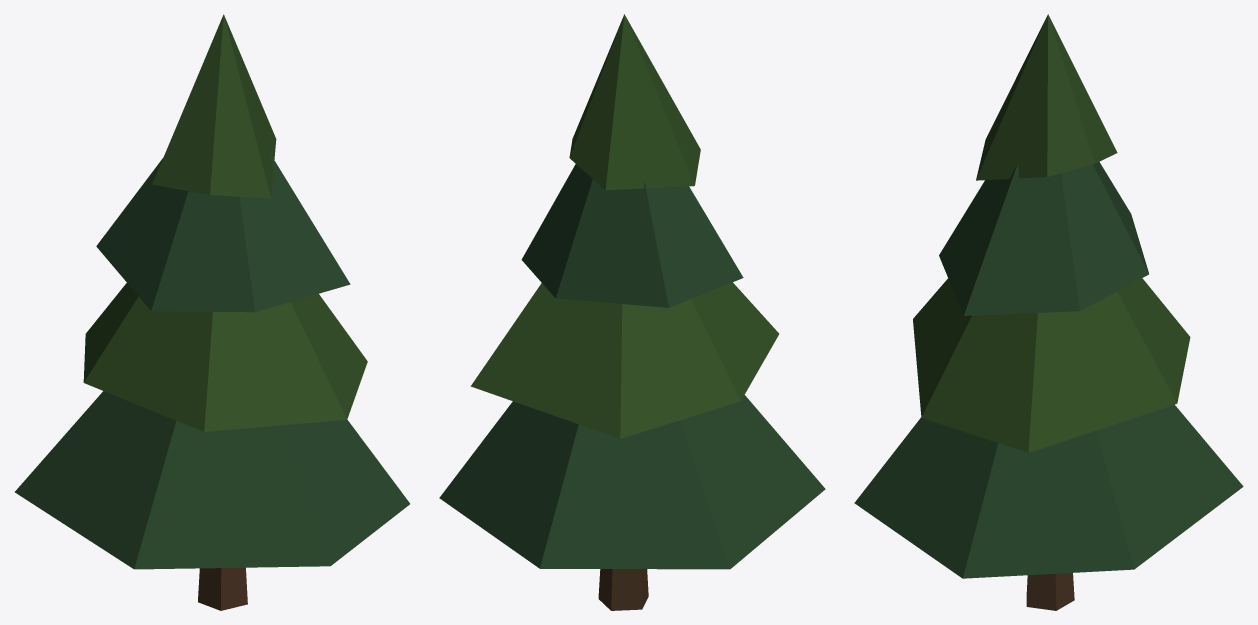
Rendered from tree_pine_far.glb.
The picture shows the model from 3 angles, left to right: view 1: azimuth 30°, elevation 25°; view 2: azimuth 150°, elevation 25°; view 3: azimuth 270°, elevation 25°; orthographic projection.
Visible parts, largest first — view 1: tree_pine_far; view 2: tree_pine_far; view 3: tree_pine_far.
Part boxes in pixels (x1,y1,x2,y2): tree_pine_far: (15,14,409,610); tree_pine_far: (439,14,825,610); tree_pine_far: (854,14,1243,610).
Size of the model in its own units: 2.24 by 4.15 by 2.5.
